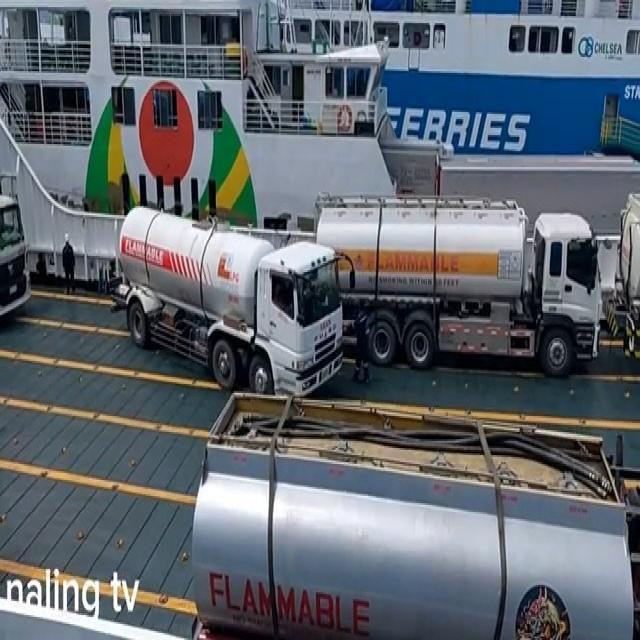truck: (188, 387, 639, 640), (314, 199, 602, 369), (114, 203, 345, 406), (609, 188, 640, 361)
